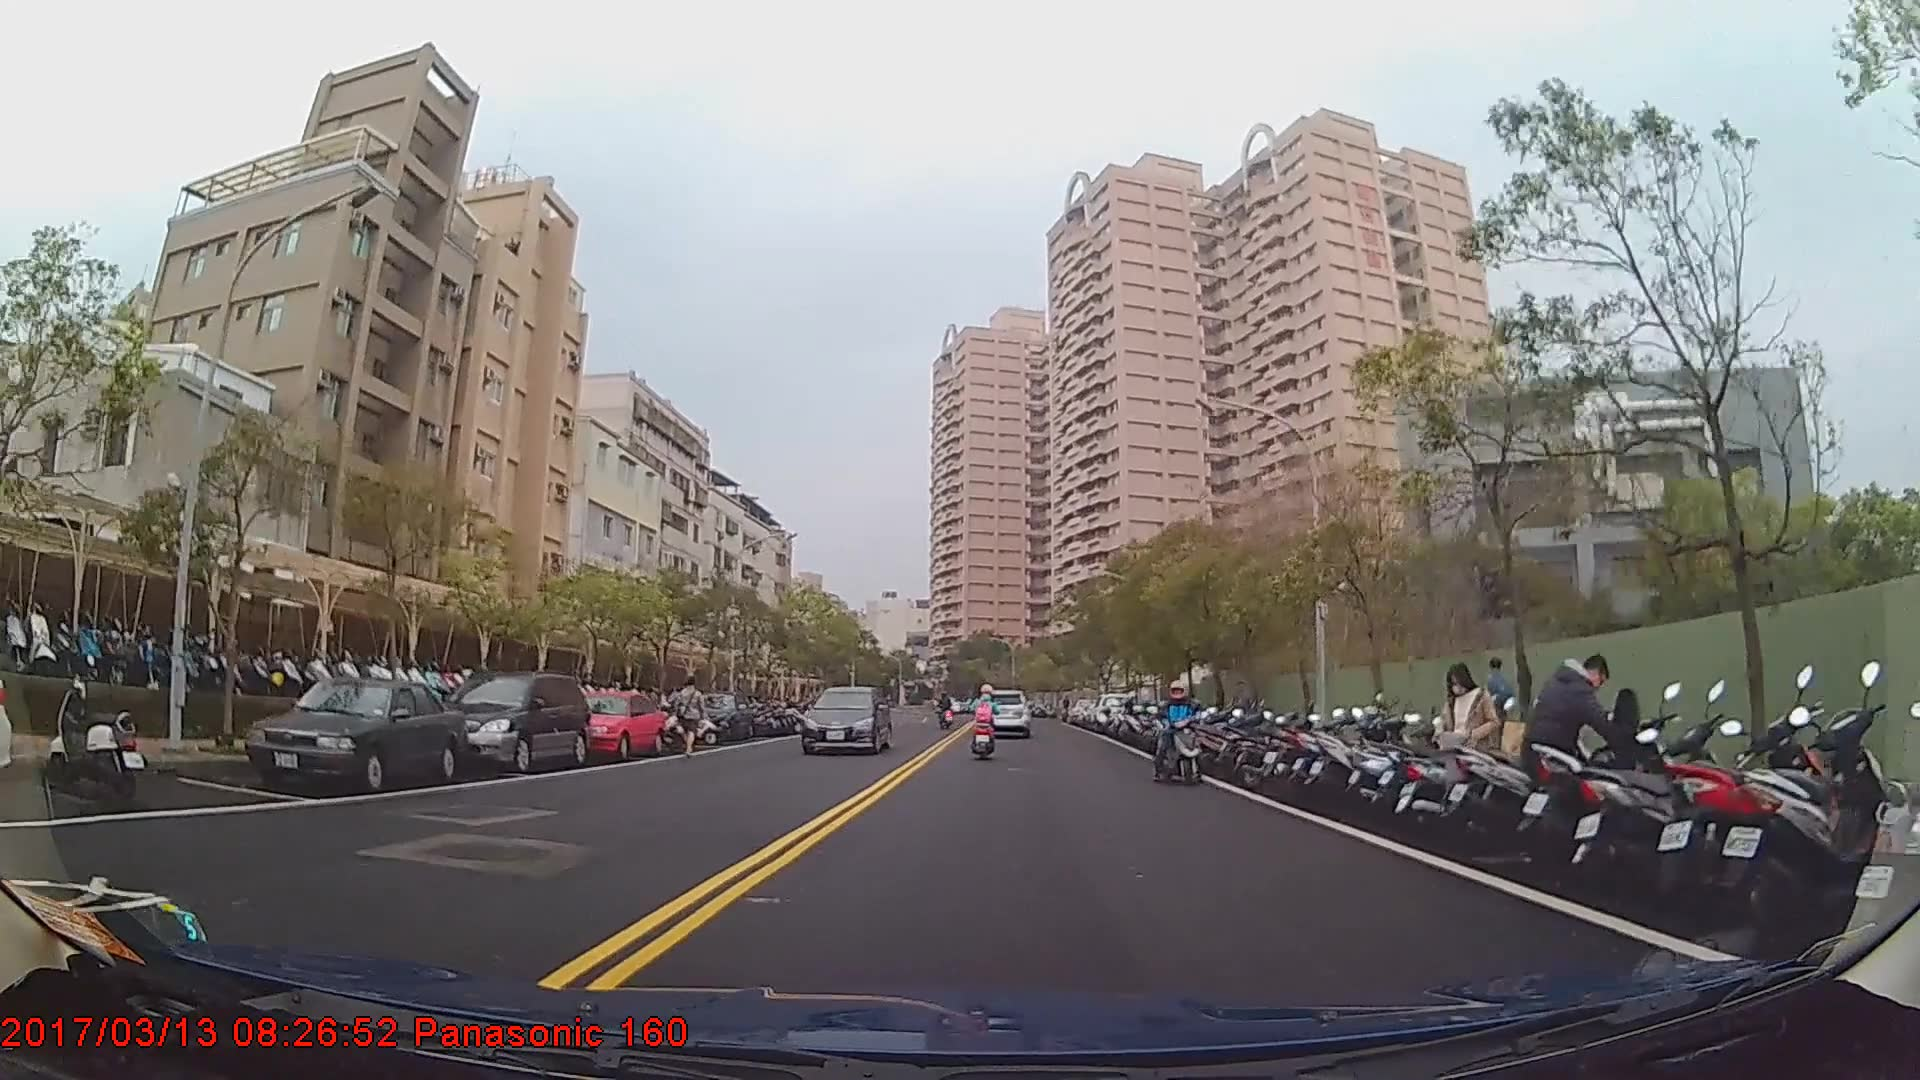pedestrian: (1527, 657, 1634, 855), (1440, 664, 1507, 836), (673, 679, 708, 760)
rider: (1150, 677, 1205, 783), (970, 683, 1002, 755)
vehicle: (242, 673, 465, 789), (431, 668, 590, 772), (563, 686, 667, 757), (801, 685, 894, 755), (979, 683, 1033, 738), (1088, 690, 1138, 734)
